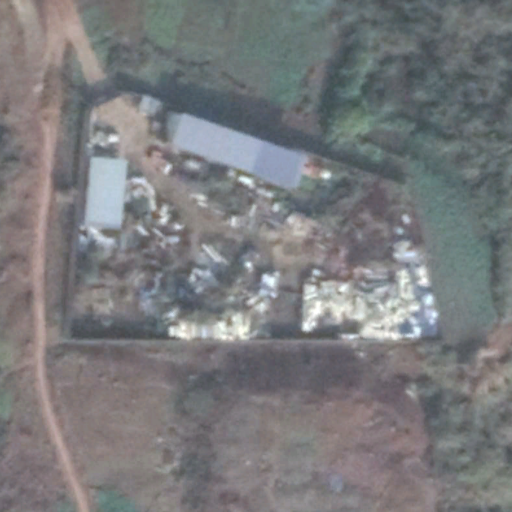msw: (73, 151, 441, 343)
